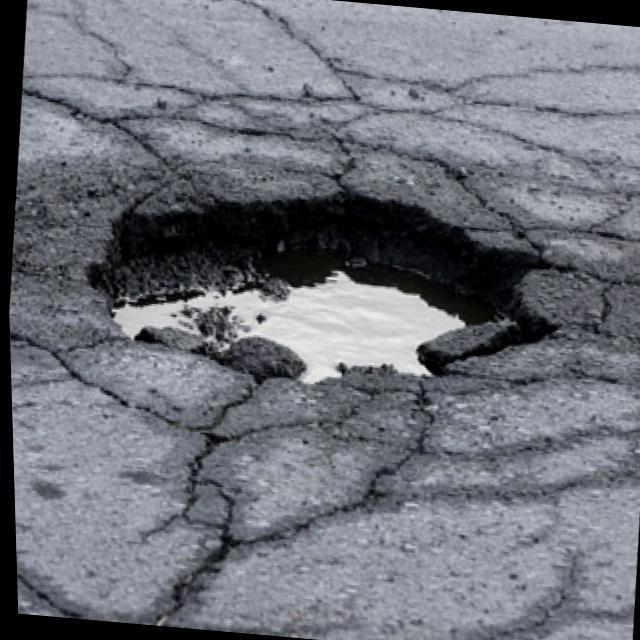Pothole: (88, 191, 553, 386)
